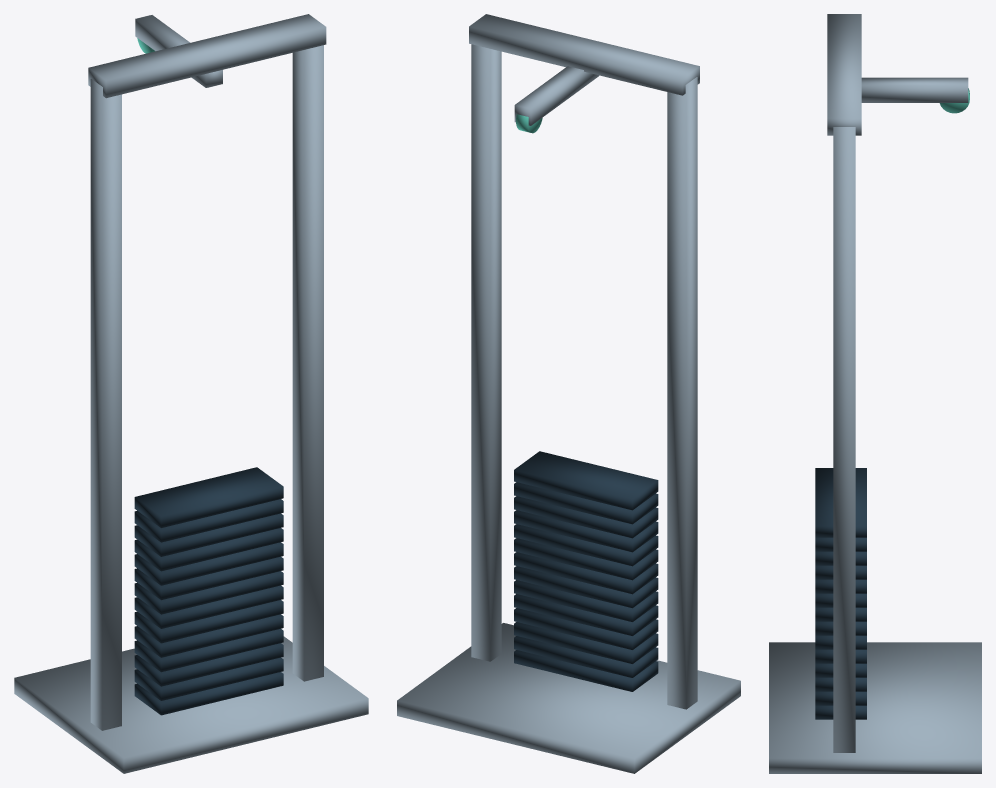
The model's file is cable_station_high.glb.
The picture shows the model from 3 angles, left to right: view 1: azimuth 30°, elevation 25°; view 2: azimuth 150°, elevation 25°; view 3: azimuth 270°, elevation 25°; orthographic projection. The views are drawn at different scales.
Visible parts, largest first — view 1: frame, weight_stack; view 2: frame, weight_stack; view 3: frame, weight_stack.
Boxes of the visible parts, <box> form: frame: <box>14,14,368,773</box>; weight_stack: <box>134,467,283,715</box>; frame: <box>397,14,740,773</box>; weight_stack: <box>514,451,658,691</box>; frame: <box>769,14,981,773</box>; weight_stack: <box>815,468,866,719</box>.
Bounding box in the file's own units: 0.8 × 2.09 × 0.62.
